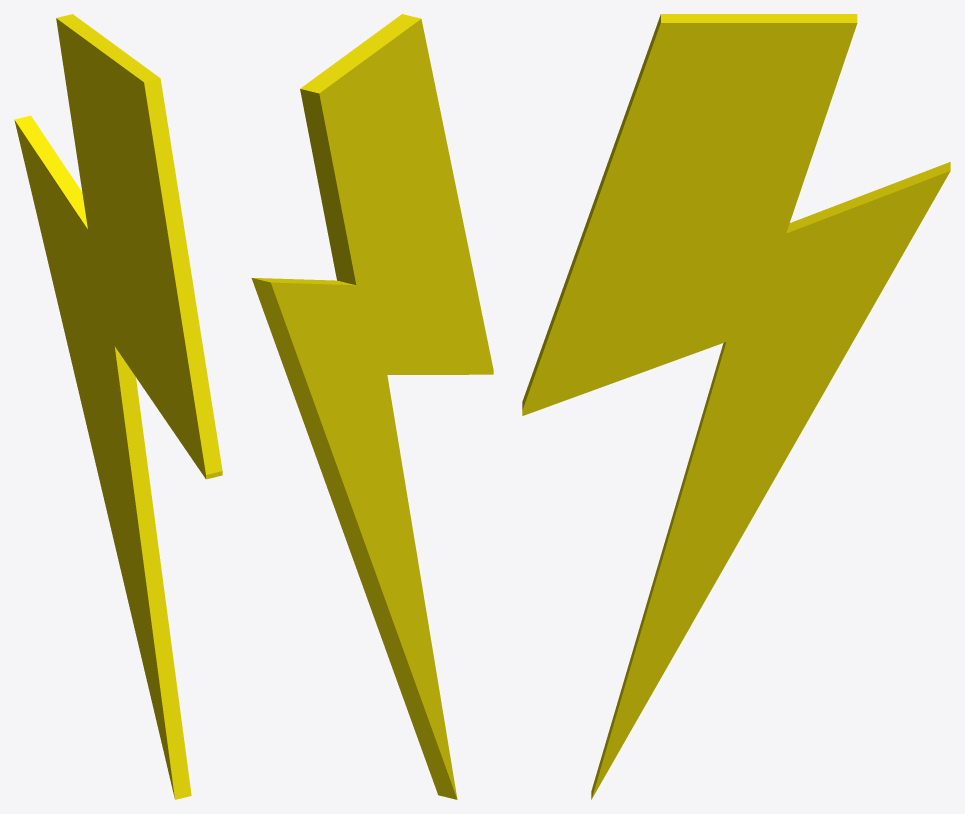
Rendered from Choque.fbx.
The picture shows the model from 3 angles, left to right: view 1: azimuth 30°, elevation 25°; view 2: azimuth 150°, elevation 25°; view 3: azimuth 270°, elevation 25°; orthographic projection. The views are drawn at different scales.
Parts seen in each view (by area): view 1: Choque; view 2: Choque; view 3: Choque.
Part boxes in pixels (x1,y1,x2,y2): Choque: (14, 14, 222, 799); Choque: (251, 14, 493, 799); Choque: (522, 14, 950, 799).
Size of the model in its own units: 1 by 40 by 20.
